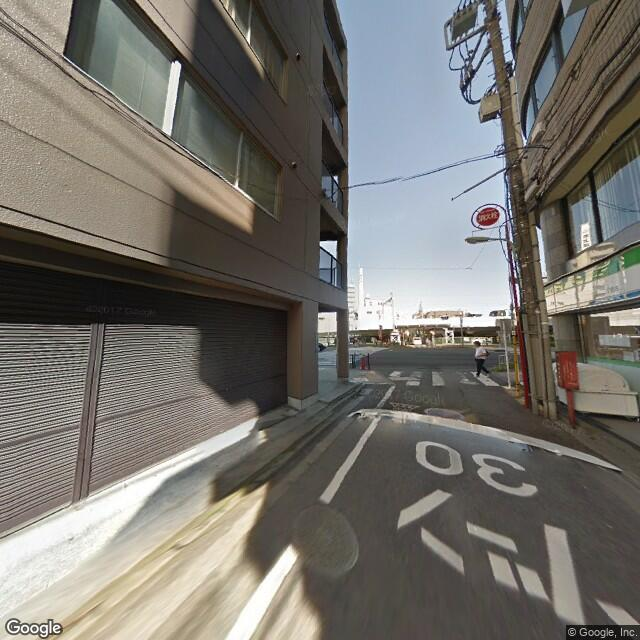family_mart: (547, 246, 640, 308)
